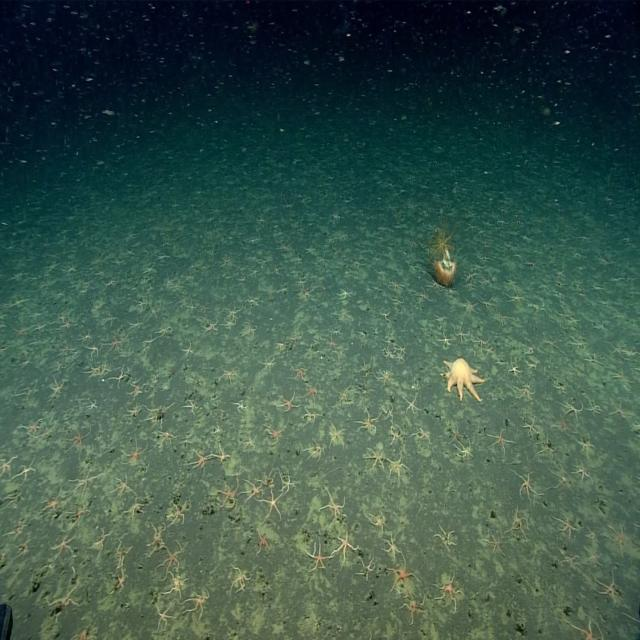brittle-stars: (388, 558, 416, 594), (47, 584, 80, 611), (570, 617, 608, 640), (437, 573, 463, 606), (594, 573, 620, 604), (334, 532, 358, 565), (71, 468, 99, 496), (514, 469, 538, 501), (308, 540, 331, 571), (403, 592, 426, 622), (158, 544, 180, 575), (324, 490, 347, 519), (216, 478, 238, 508), (186, 588, 208, 617), (605, 521, 627, 550), (53, 531, 76, 558), (123, 441, 147, 466), (551, 465, 573, 492), (68, 426, 91, 451), (264, 490, 283, 520), (488, 430, 511, 454), (611, 400, 634, 424), (0, 487, 23, 511), (388, 452, 408, 479), (510, 509, 528, 539), (231, 566, 251, 592), (148, 524, 166, 552), (157, 604, 175, 632), (436, 525, 456, 550), (168, 571, 188, 596), (168, 500, 187, 526), (4, 519, 26, 541), (556, 515, 577, 538), (44, 488, 62, 514), (279, 390, 300, 412), (485, 530, 504, 554), (367, 448, 386, 472), (357, 411, 377, 433), (243, 479, 263, 501), (562, 400, 582, 422), (146, 405, 168, 425), (17, 459, 37, 481), (128, 495, 146, 519), (112, 476, 131, 498), (16, 383, 38, 402), (307, 439, 325, 462), (304, 380, 322, 403), (358, 556, 375, 580), (330, 421, 346, 446), (24, 418, 44, 438), (384, 534, 401, 557), (90, 533, 107, 556), (114, 542, 130, 566), (266, 423, 285, 443), (561, 551, 580, 570), (515, 384, 535, 402), (376, 368, 394, 388), (72, 501, 90, 521), (554, 414, 571, 435), (541, 436, 558, 457), (258, 528, 272, 553), (70, 626, 95, 640), (0, 454, 15, 477), (192, 452, 212, 469), (370, 512, 387, 532), (573, 462, 590, 482), (113, 568, 127, 591), (51, 378, 67, 398), (586, 548, 602, 568), (523, 416, 538, 437), (280, 473, 295, 494), (220, 368, 238, 385), (107, 336, 124, 354), (614, 366, 632, 383), (457, 439, 472, 459), (568, 337, 588, 352), (339, 383, 353, 404), (159, 429, 177, 445), (416, 426, 432, 444), (213, 446, 229, 464), (304, 408, 320, 426), (587, 399, 602, 418), (183, 397, 199, 414), (290, 363, 306, 380), (580, 439, 595, 457), (622, 610, 640, 625), (406, 394, 420, 413), (81, 366, 100, 380), (493, 310, 509, 326), (58, 343, 74, 359), (608, 343, 624, 359), (509, 360, 524, 377), (130, 381, 145, 398), (507, 290, 524, 305), (415, 286, 430, 303), (456, 324, 470, 342), (243, 320, 257, 338), (112, 369, 126, 387), (359, 358, 372, 377), (204, 318, 219, 334), (474, 336, 490, 351), (60, 316, 76, 331), (479, 294, 496, 308), (13, 326, 30, 340), (382, 404, 395, 422), (228, 304, 243, 319), (338, 286, 354, 300), (263, 356, 277, 372), (128, 405, 144, 419), (463, 299, 477, 315), (243, 435, 257, 451), (592, 320, 608, 334), (264, 473, 277, 490), (584, 355, 604, 366), (148, 303, 160, 321), (388, 426, 400, 444), (587, 526, 599, 544), (525, 258, 540, 272), (104, 276, 119, 290), (91, 301, 105, 316), (543, 334, 558, 348), (451, 426, 464, 442), (88, 344, 102, 358), (130, 317, 144, 331), (441, 332, 454, 347), (336, 346, 349, 361), (182, 341, 193, 358), (222, 317, 235, 331), (103, 313, 117, 326), (234, 398, 247, 412), (524, 342, 536, 357), (326, 335, 337, 351), (504, 276, 517, 289), (319, 255, 332, 268), (391, 293, 404, 306), (65, 263, 78, 276), (156, 328, 170, 340), (390, 280, 404, 292), (143, 264, 155, 278), (380, 308, 392, 322), (200, 300, 212, 314), (164, 274, 176, 288), (136, 298, 148, 312), (471, 260, 483, 274), (340, 308, 352, 322), (591, 282, 605, 294), (88, 398, 100, 411), (158, 250, 171, 262), (247, 294, 259, 307), (34, 321, 47, 333), (384, 346, 395, 360), (211, 423, 222, 437), (554, 268, 566, 280), (79, 332, 91, 344), (464, 280, 476, 292), (184, 272, 196, 284), (306, 243, 317, 256), (295, 275, 306, 288), (142, 336, 156, 346), (482, 275, 493, 287), (396, 344, 406, 357), (378, 268, 389, 279), (250, 267, 260, 279), (246, 252, 256, 263), (385, 337, 395, 348), (187, 302, 196, 314), (0, 344, 7, 359), (486, 346, 496, 356), (319, 283, 329, 293), (219, 259, 230, 268), (276, 341, 283, 352)
